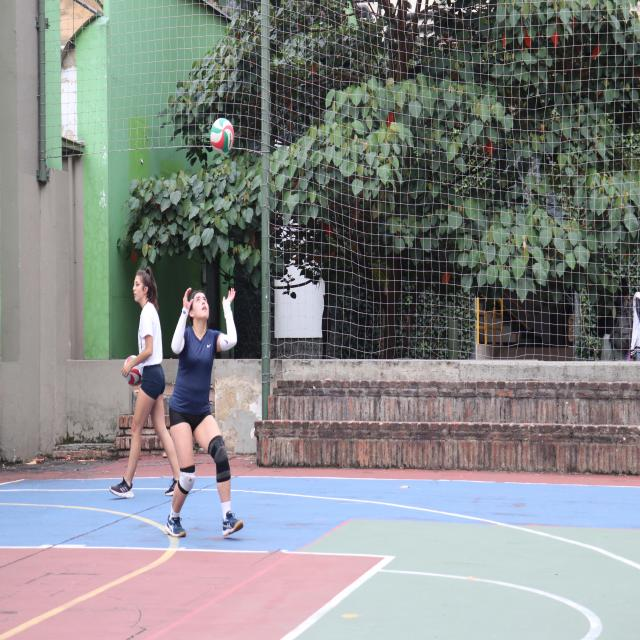volleyball: (210, 118, 235, 154)
